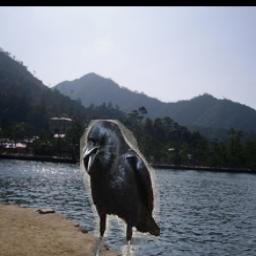Crow: (81, 121, 161, 256)
